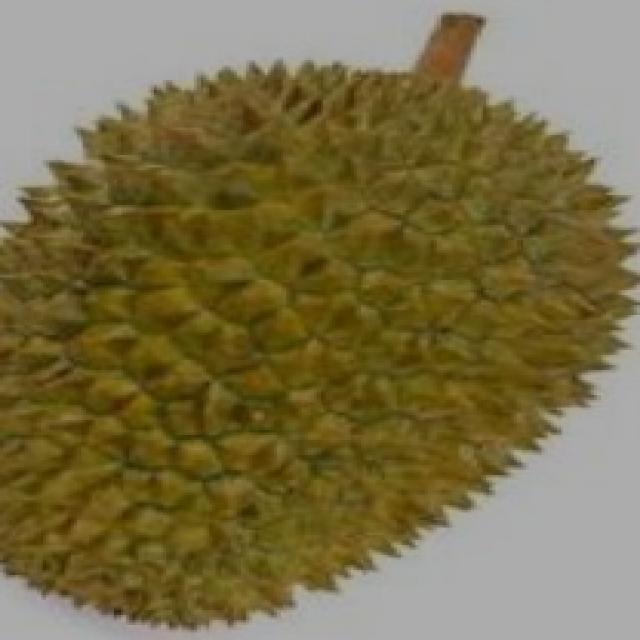fruit: (240, 243, 640, 635), (0, 260, 388, 640)
